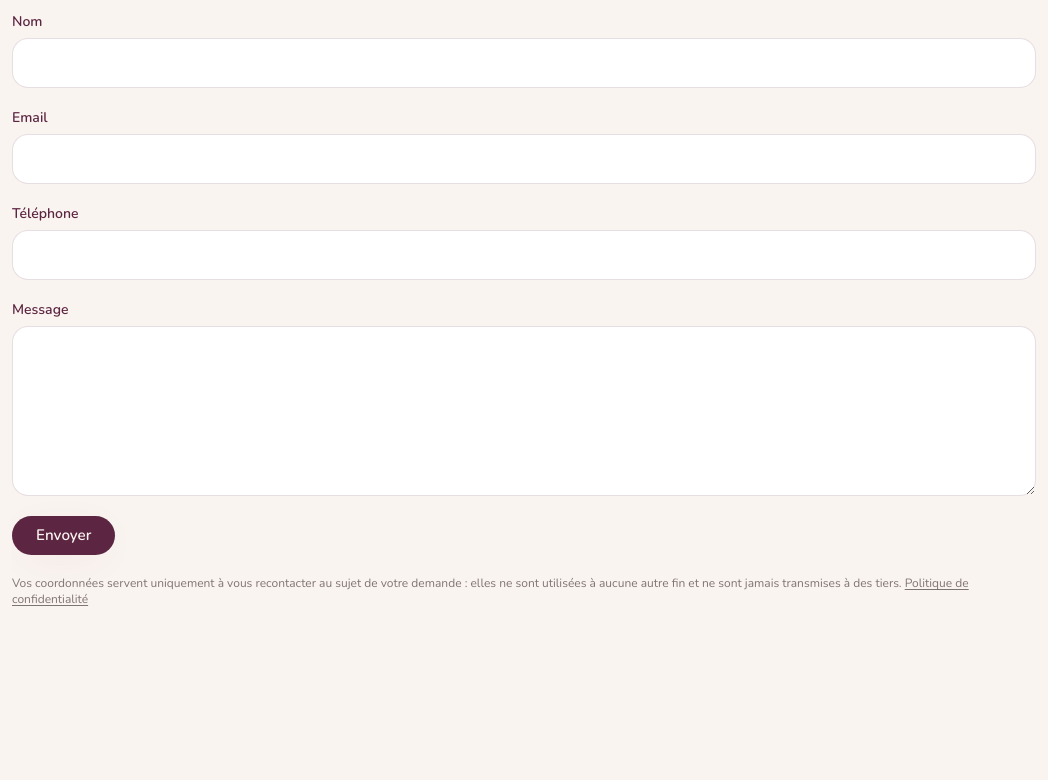
Test: ContactForm › rejects a malformed phone number
Step 1. Type "Camille" into the field labelled "Nom" → x=524, y=63, box [12,38,1036,88]
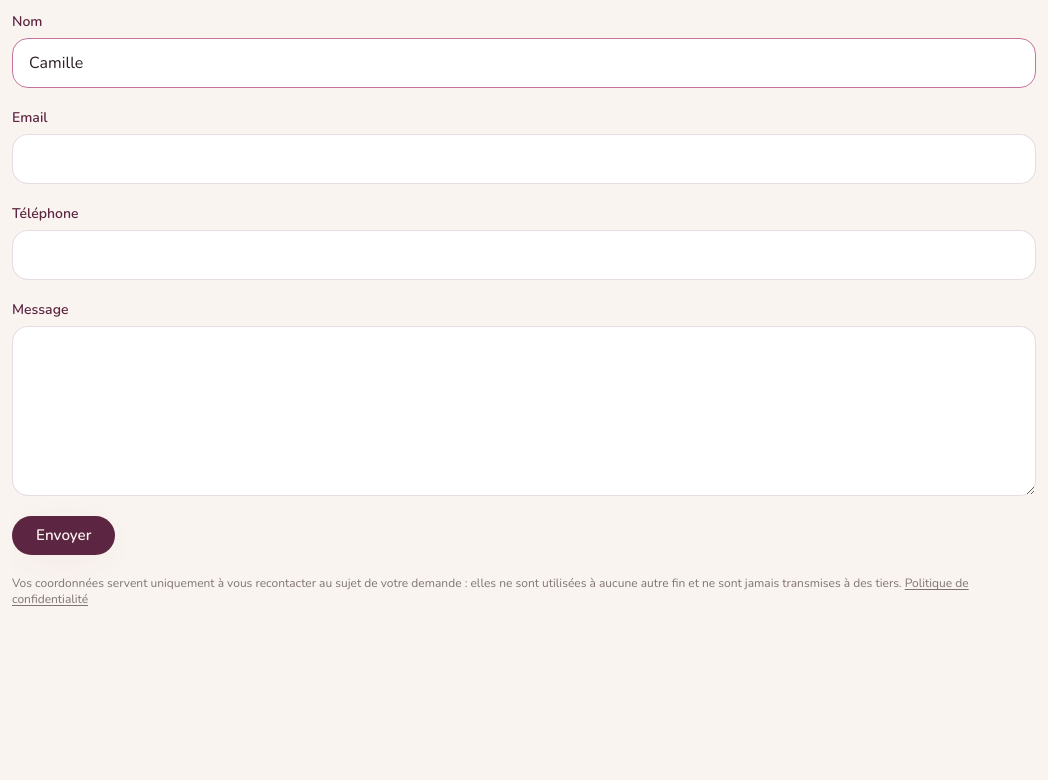
Step 2. Type "camille@example.fr" into the field labelled "Email" → x=524, y=159, box [12,134,1036,184]
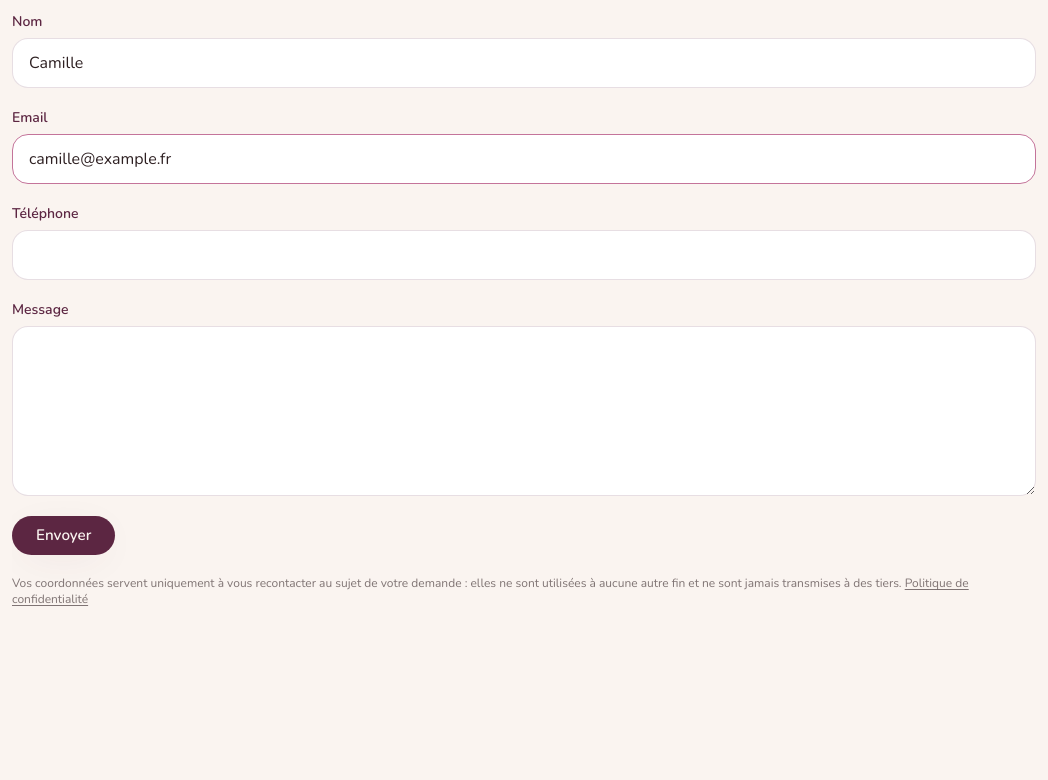
Step 3. Type "06 12 34 56" into the field labelled "Téléphone" → x=524, y=255, box [12,230,1036,280]
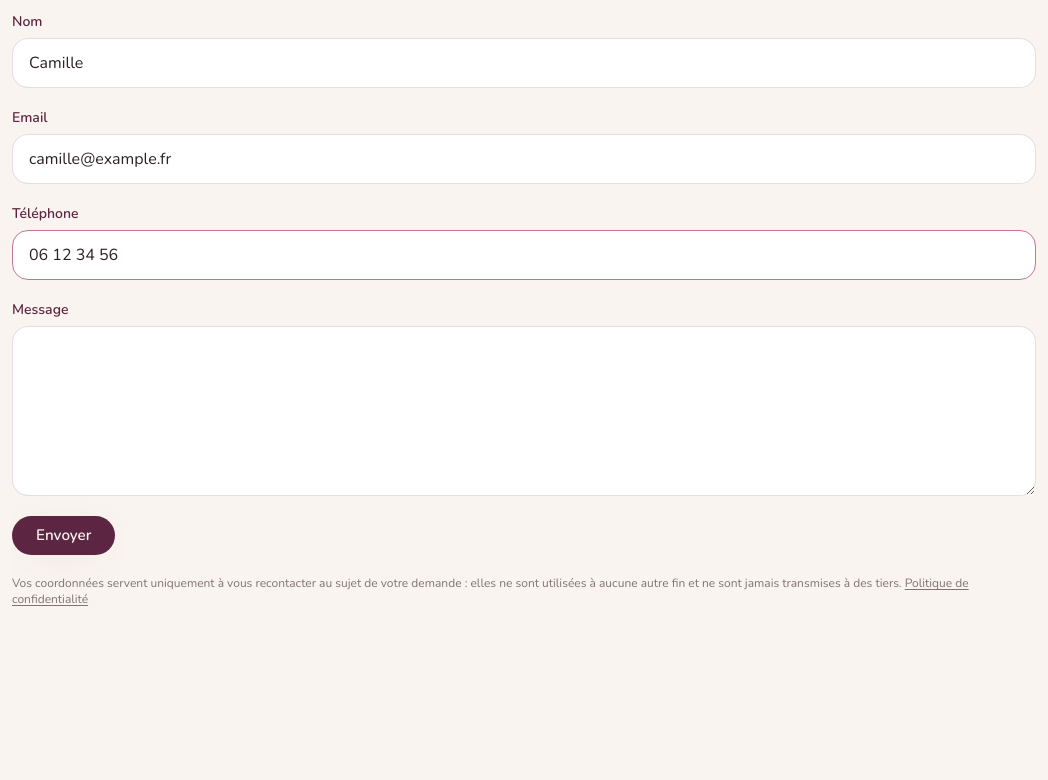
Step 4. Type "Bonjour" into the text box labelled "Message" → x=524, y=411, box [12,326,1036,496]
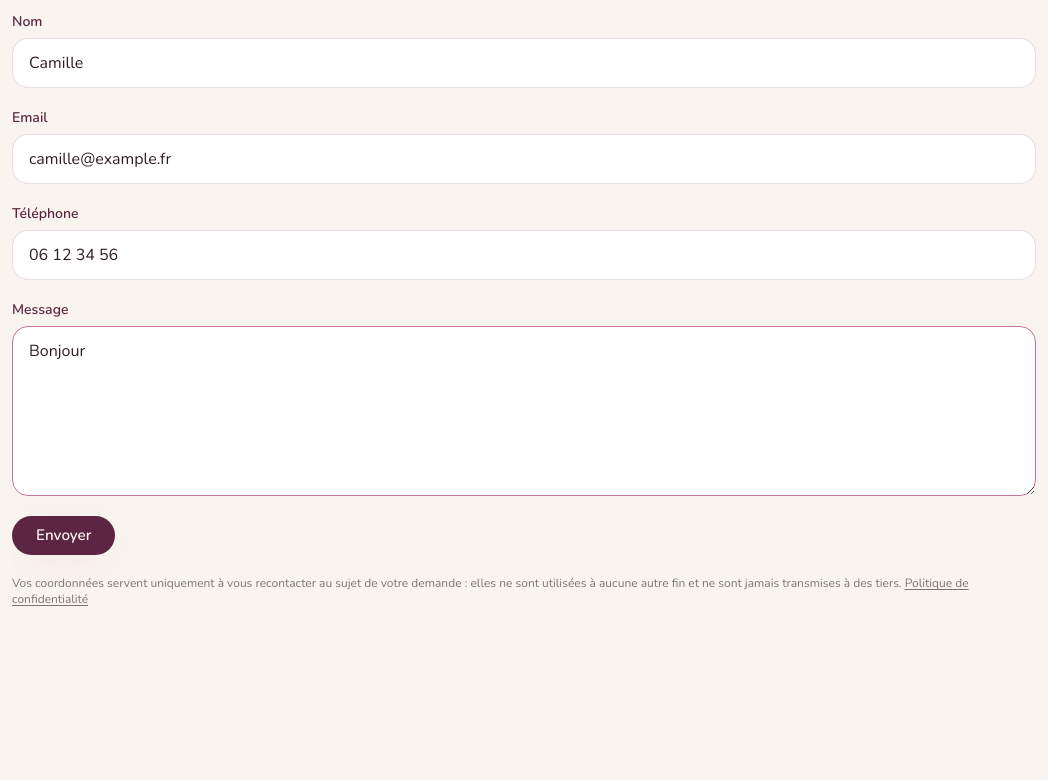
Step 5. Click the button "Envoyer" → x=64, y=536, box [12,516,115,555]
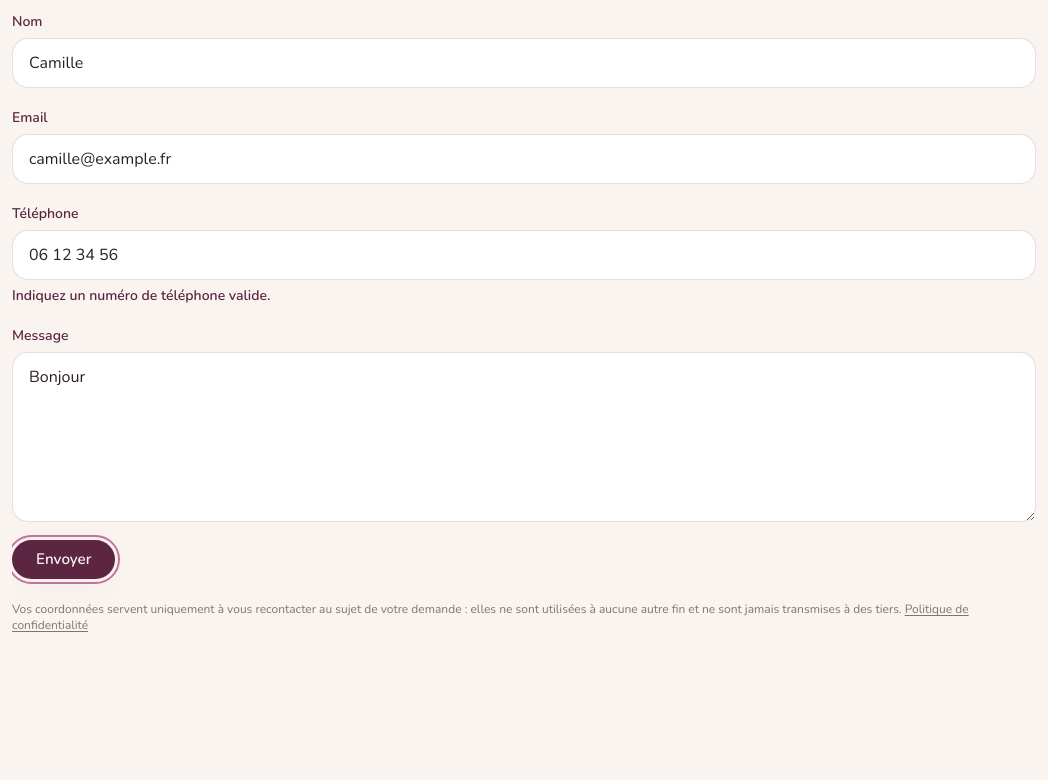
Expected: the text "Indiquez un numéro de téléphone valide." is shown, [12,286,270,305]
